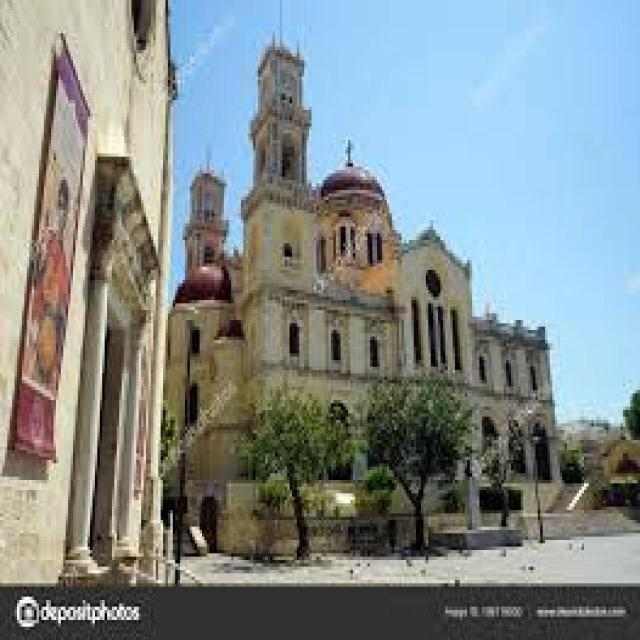Agios Minas: (177, 15, 549, 541)
